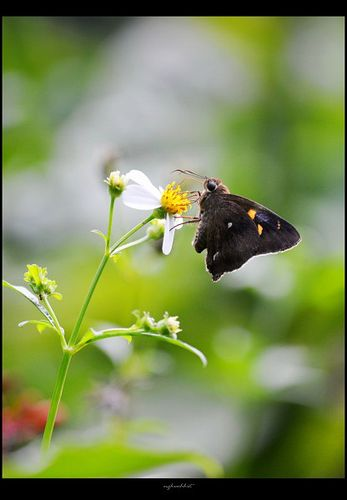Hesperiidae: (166, 169, 303, 280)
